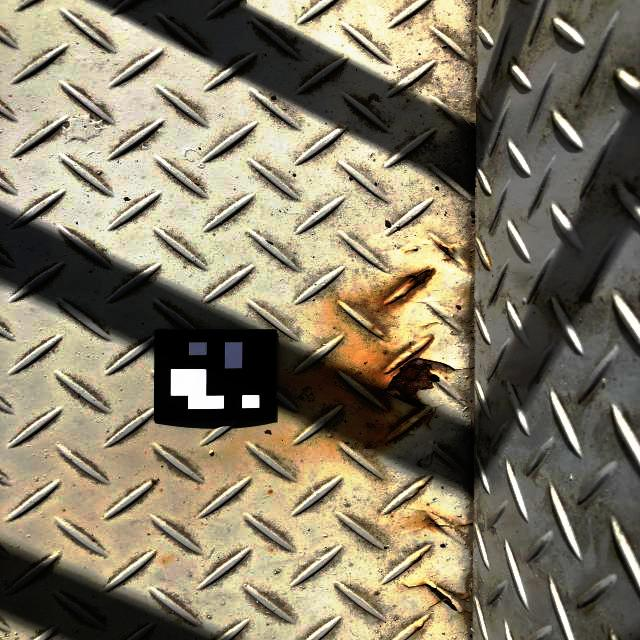Corrosion: (383, 356, 453, 408), (425, 583, 459, 613), (406, 270, 433, 290), (426, 518, 440, 529), (439, 243, 450, 252)
